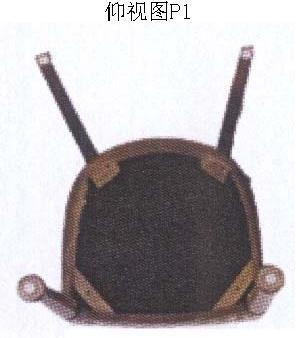obstacle: (18, 46, 283, 322)
